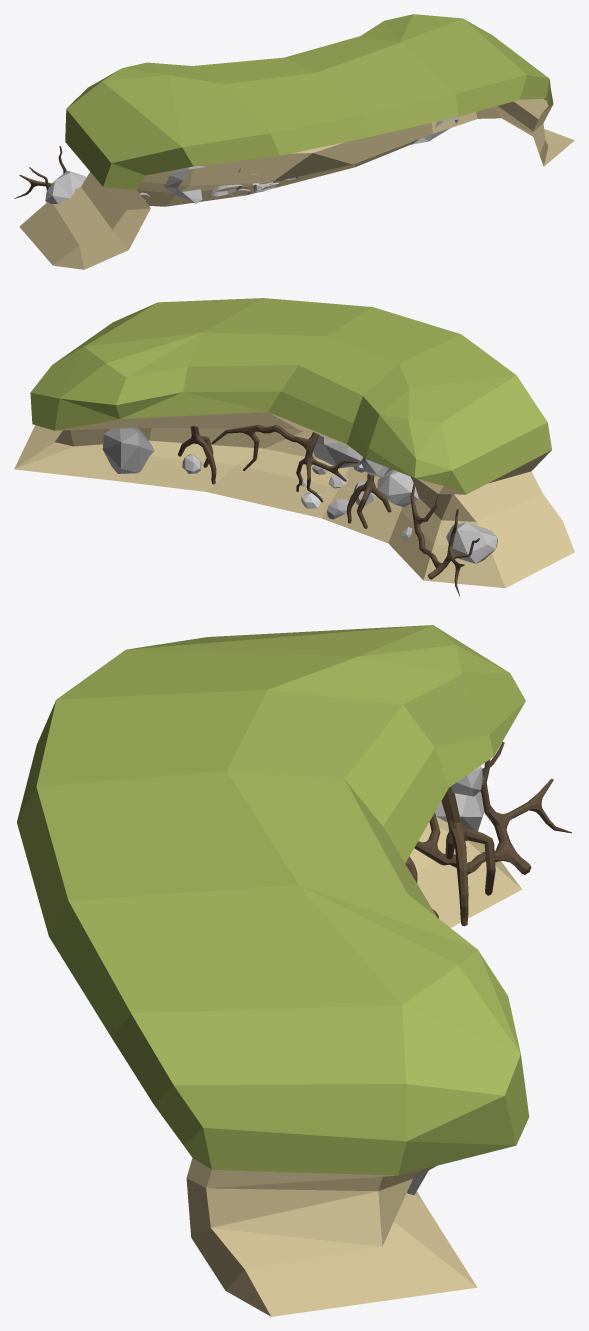
The model's file is EA03_Environment_RiverStraight_01g.glb.
3 views of the same model, one above another, from view 1: azimuth 30°, elevation 25°; view 2: azimuth 150°, elevation 25°; view 3: azimuth 270°, elevation 25° (orthographic). The views are drawn at different scales.
Parts seen in each view (by area): view 1: EA03_Environment_RiverStraight_01g; view 2: EA03_Environment_RiverStraight_01g; view 3: EA03_Environment_RiverStraight_01g.
Part boxes in pixels (x1,y1,x2,y2): EA03_Environment_RiverStraight_01g: (14, 14, 574, 269); EA03_Environment_RiverStraight_01g: (14, 298, 574, 596); EA03_Environment_RiverStraight_01g: (17, 625, 571, 1316).
Size of the model in its own units: 35.06 by 9.67 by 16.15.
Materials: 1 (1 with a texture image).
